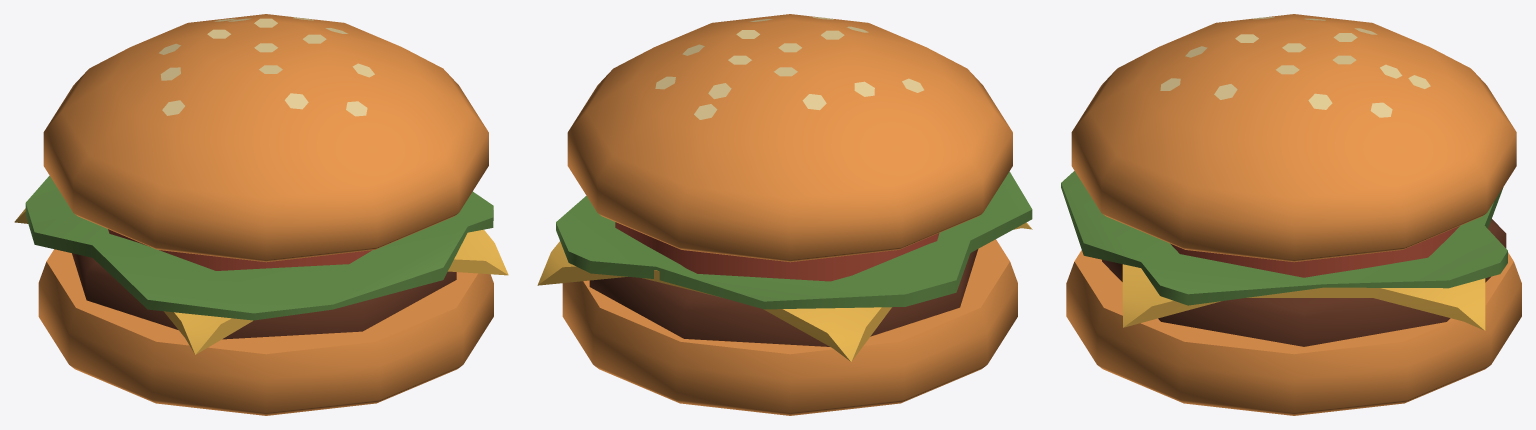
The model's file is Hamburger_01_Normal.fbx.
3 views of the same model, side by side, from view 1: azimuth 30°, elevation 25°; view 2: azimuth 150°, elevation 25°; view 3: azimuth 270°, elevation 25° (orthographic).
Parts seen in each view (by area): view 1: Hamburger_01_Normal; view 2: Hamburger_01_Normal; view 3: Hamburger_01_Normal.
Boxes of the visible parts, x1,y1,x2,y2 form: Hamburger_01_Normal: (14, 14, 508, 415); Hamburger_01_Normal: (537, 14, 1032, 415); Hamburger_01_Normal: (1061, 14, 1521, 415).
Size of the model in its own units: 0.1488 by 0.0987 by 0.1499.
